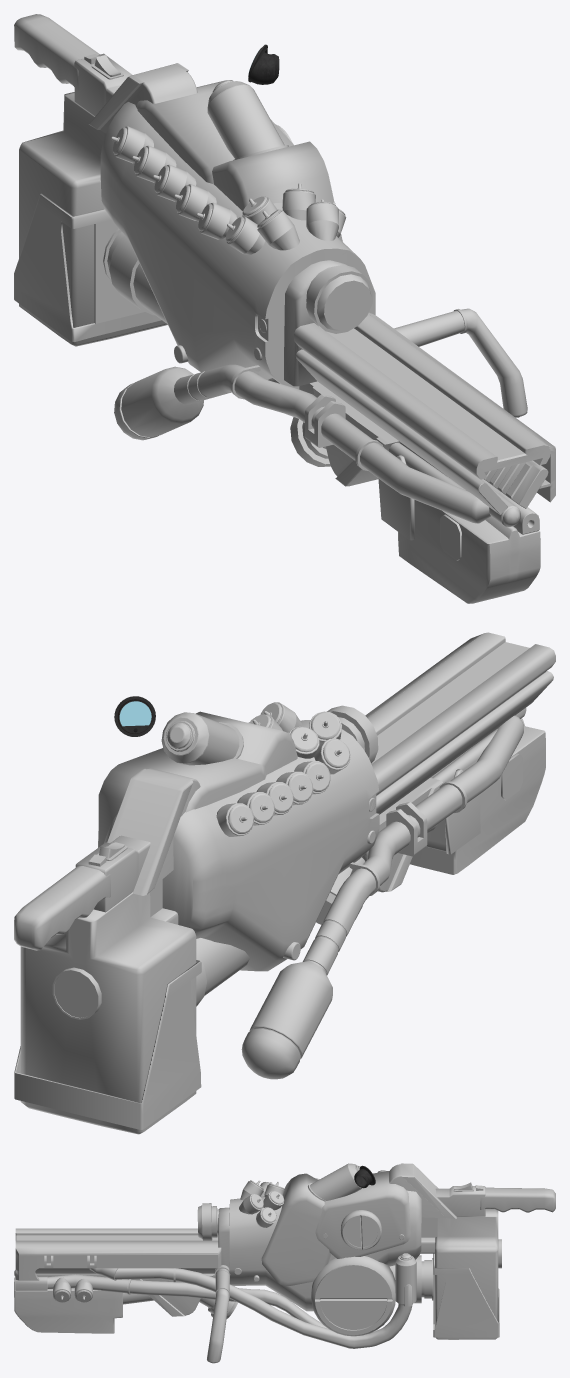
The model's file is MicroHidPickup.fbx.
The picture shows the model from 3 angles, top to bottom: view 1: azimuth 30°, elevation 25°; view 2: azimuth 150°, elevation 25°; view 3: azimuth 270°, elevation 25°; orthographic projection. The views are drawn at different scales.
Parts seen in each view (by area): view 1: MicroHID_LOD0, 40degrees; view 2: MicroHID_LOD0, kolo, kolo.001; view 3: MicroHID_LOD0, 40degrees.
Boxes of the visible parts, left/top/right/bottom form: MicroHID_LOD0: left=14, top=14, right=555, bottom=603; 40degrees: left=250, top=52, right=279, bottom=84; MicroHID_LOD0: left=14, top=632, right=555, bottom=1134; kolo: left=114, top=696, right=155, bottom=736; kolo.001: left=119, top=701, right=151, bottom=726; MicroHID_LOD0: left=14, top=1163, right=555, bottom=1363; 40degrees: left=354, top=1169, right=372, bottom=1188.
Size of what is drawn, in the model's own units: 0.5873 by 0.7101 by 1.78.
